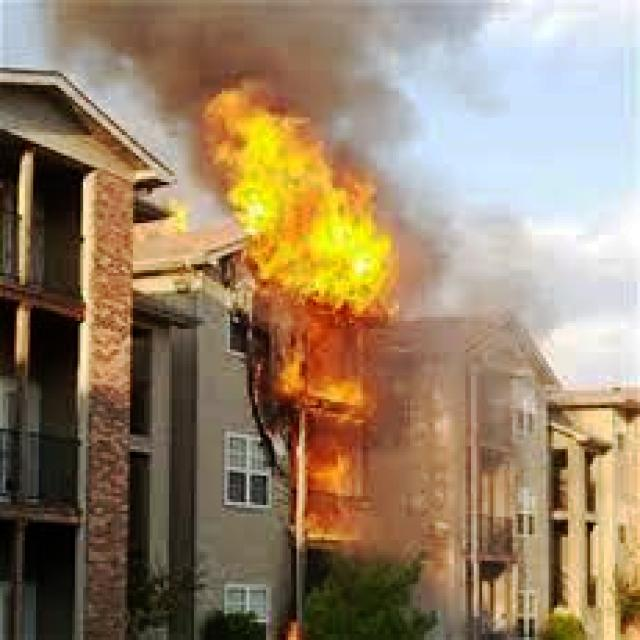api: (206, 86, 436, 318), (248, 298, 417, 547)
